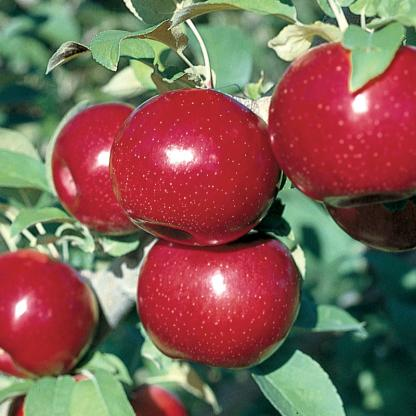apple: (256, 32, 416, 215), (114, 84, 284, 253), (138, 233, 304, 370), (39, 92, 173, 242), (0, 244, 103, 372)
